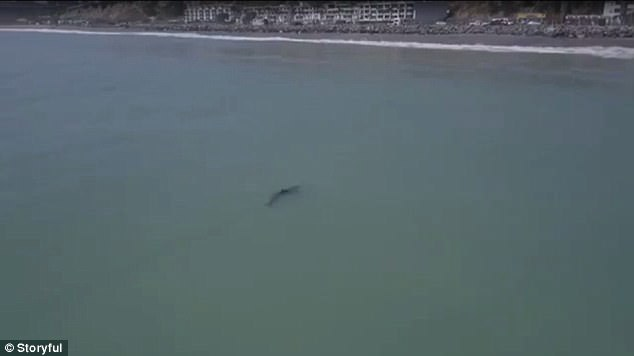shark: (257, 181, 303, 214)
